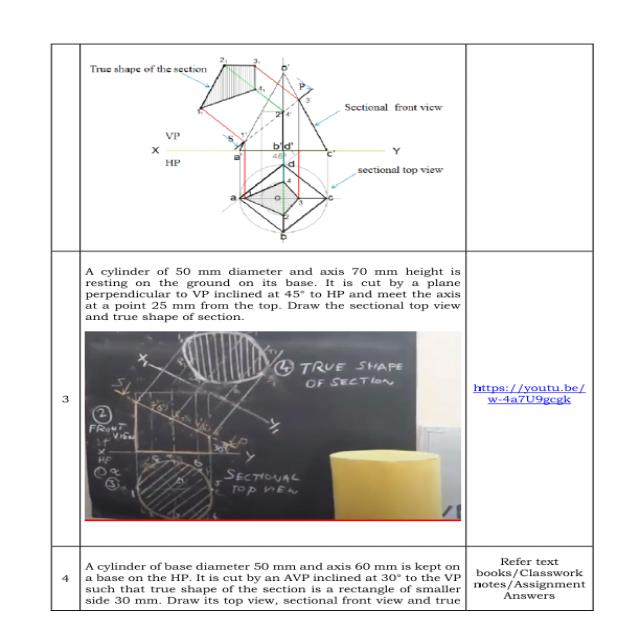Drawings: (82, 52, 457, 245), (84, 330, 316, 521)
